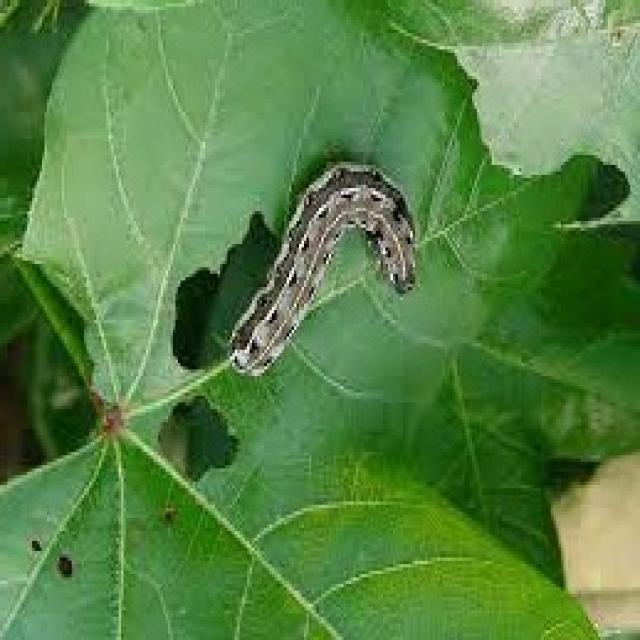armyworm: (225, 158, 417, 376)
